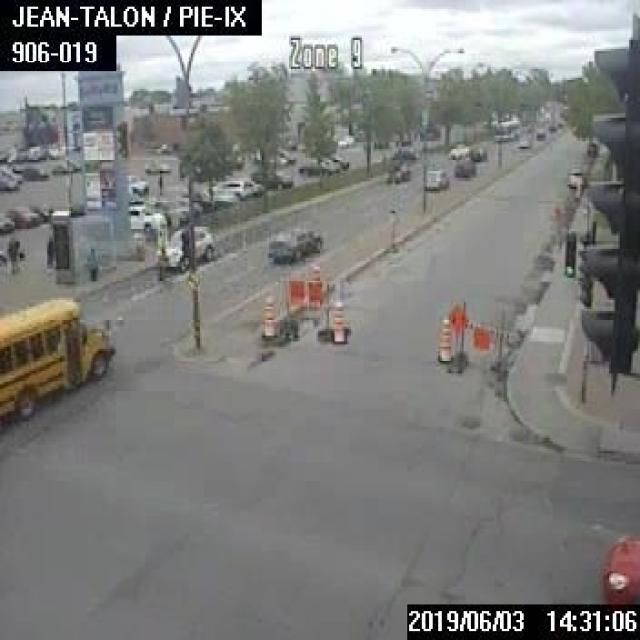bus: (0, 293, 113, 420), (492, 118, 519, 140)
construction: (443, 301, 518, 370), (275, 268, 332, 341), (258, 290, 275, 337), (434, 314, 450, 363), (331, 296, 346, 343)
pedestrian: (6, 232, 18, 272), (84, 247, 95, 282), (44, 234, 52, 267), (156, 172, 162, 194)
vehicle: (598, 527, 638, 602), (156, 222, 215, 272), (264, 226, 322, 262), (145, 198, 191, 223), (128, 203, 166, 229), (249, 167, 291, 187), (5, 205, 37, 228), (384, 157, 409, 182), (297, 160, 330, 176), (422, 168, 448, 188), (28, 202, 53, 222), (20, 163, 47, 179), (125, 173, 147, 192), (453, 156, 474, 175), (143, 158, 169, 172), (565, 168, 585, 186), (0, 163, 20, 181), (318, 158, 340, 172), (468, 142, 486, 158), (448, 142, 467, 157), (0, 171, 15, 189), (276, 148, 294, 162), (0, 211, 13, 229), (51, 161, 70, 172), (330, 156, 347, 168), (585, 140, 596, 154), (517, 136, 528, 146), (275, 154, 285, 164), (547, 120, 556, 130), (535, 128, 544, 136)
